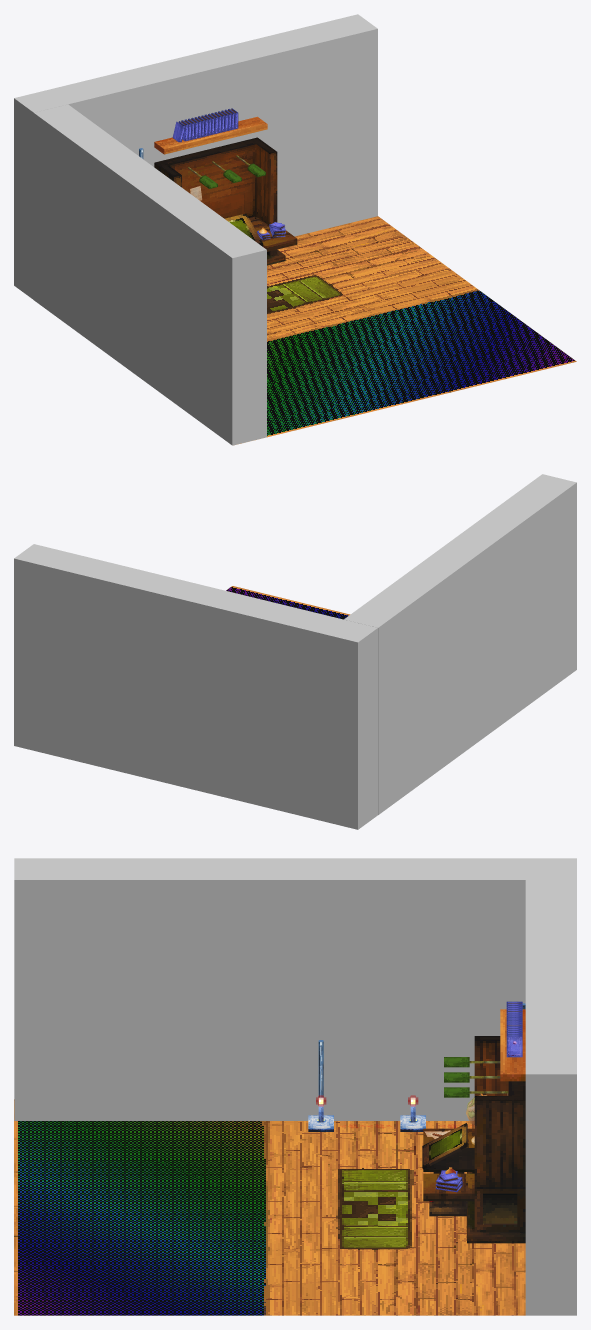
Rendered from room with desk.glb.
3 renders of one model, top to bottom at view 1: azimuth 30°, elevation 25°; view 2: azimuth 150°, elevation 25°; view 3: azimuth 270°, elevation 25°, orthographic. The views are drawn at different scales.
Parts seen in each view (by area): view 1: Cube.021, floor, Cube.019, desk, bookshelf; view 2: Cube.019, Cube.021, floor; view 3: Cube.021, floor, Cube.019, desk, Book_stand, bookshelf.
Part boxes in pixels (x1,y1,x2,y2): Cube.021: (33,104,266,445); floor: (240,216,576,443); Cube.019: (14,14,377,299); desk: (154,137,297,265); bookshelf: (154,116,267,154); Cube.019: (14,544,377,829); Cube.021: (344,474,576,814); floor: (226,586,350,619); Cube.021: (14,858,525,1120); floor: (14,1099,525,1315); Cube.019: (525,858,576,1315); desk: (423,1036,525,1243); Book_stand: (422,1123,474,1216); bookshelf: (500,1009,525,1081).
Size of the model in its own units: 20 by 10.4 by 22.
Materials: 27 (24 with a texture image).
